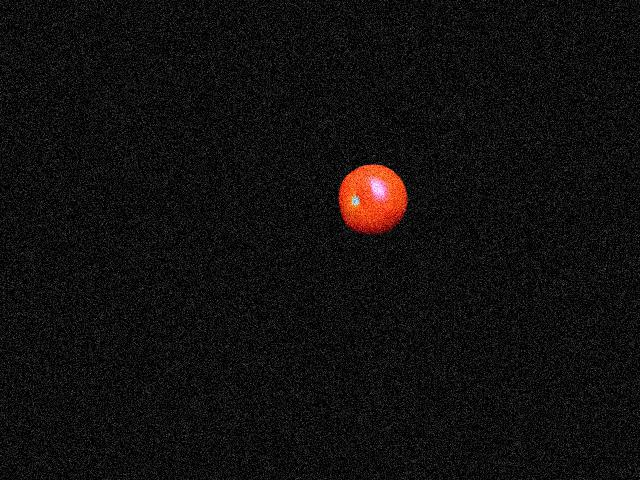tomato: (339, 164, 407, 235)
